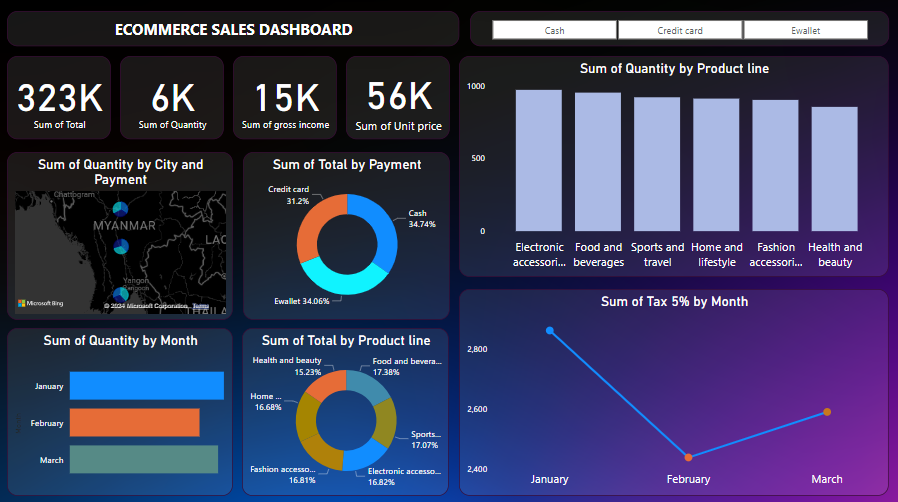

Layout of this report page (visuals, bound fields, positions):
{"tool":"powerbi","page":{"name":"Page 1","canvas":[1280,720],"ordinal":0},"visuals":[{"type":"textbox","box":[12.8,19.8,640.6,49.6],"z":0},{"type":"lineClusteredColumnComboChart","fields":{"Category":["supermarket_sales - Sheet1.Product line"],"Y":["Sum(supermarket_sales - Sheet1.Quantity)"]},"box":[653.4,83.6,609.4,313.2],"z":1000},{"type":"lineChart","fields":{"Category":["supermarket_sales - Sheet1.Date.Variation.Date Hierarchy.Month"],"Y":["Sum(supermarket_sales - Sheet1.Tax 5%)"]},"box":[653.4,413.9,609.4,293.4],"z":2000},{"type":"donutChart","fields":{"Y":["Sum(supermarket_sales - Sheet1.Total)"],"Category":["supermarket_sales - Sheet1.Payment"]},"box":[347.2,219.7,293.4,238.1],"z":3000},{"type":"donutChart","fields":{"Y":["Sum(supermarket_sales - Sheet1.Total)"],"Category":["supermarket_sales - Sheet1.Product line"]},"box":[345.8,469.1,293.4,238.1],"z":4000},{"type":"card","fields":{"Values":["Sum(supermarket_sales - Sheet1.Total)"]},"box":[12.8,83.6,147.4,117.6],"z":5000},{"type":"card","fields":{"Values":["Sum(supermarket_sales - Sheet1.Quantity)"]},"box":[172.9,83.6,147.4,117.6],"z":6000},{"type":"card","fields":{"Values":["Sum(supermarket_sales - Sheet1.gross income)"]},"box":[333.1,83.6,147.4,117.6],"z":7000},{"type":"card","fields":{"Values":["Sum(supermarket_sales - Sheet1.Unit price)"]},"box":[493.2,83.6,147.4,117.6],"z":8000},{"type":"clusteredBarChart","fields":{"Category":["supermarket_sales - Sheet1.Date.Variation.Date Hierarchy.Month"],"Y":["Sum(supermarket_sales - Sheet1.Quantity)"]},"box":[12.8,469.1,320.3,238.1],"z":9000},{"type":"slicer","fields":{"Values":["supermarket_sales - Sheet1.Payment"]},"box":[669,19.8,593.9,49.6],"z":10000},{"type":"map","fields":{"Category":["supermarket_sales - Sheet1.City"],"Series":["supermarket_sales - Sheet1.Payment"],"Size":["Sum(supermarket_sales - Sheet1.Quantity)"]},"box":[12.8,219.7,320.3,238.1],"z":11000}]}

Visuals, with their boxes in screenshot pixels (x1, y1, x2, y2), scaled from the page's 1280x720 canvas onto the 898x502 screenshot:
textbox: <bbox>9, 14, 458, 48</bbox>
lineClusteredColumnComboChart - supermarket_sales - Sheet1.Product line x Sum(supermarket_sales - Sheet1.Quantity): <bbox>458, 58, 886, 277</bbox>
lineChart - supermarket_sales - Sheet1.Date.Variation.Date Hierarchy.Month x Sum(supermarket_sales - Sheet1.Tax 5%): <bbox>458, 289, 886, 493</bbox>
donutChart - Sum(supermarket_sales - Sheet1.Total) x supermarket_sales - Sheet1.Payment: <bbox>244, 153, 449, 319</bbox>
donutChart - Sum(supermarket_sales - Sheet1.Total) x supermarket_sales - Sheet1.Product line: <bbox>243, 327, 448, 493</bbox>
card - Sum(supermarket_sales - Sheet1.Total): <bbox>9, 58, 112, 140</bbox>
card - Sum(supermarket_sales - Sheet1.Quantity): <bbox>121, 58, 225, 140</bbox>
card - Sum(supermarket_sales - Sheet1.gross income): <bbox>234, 58, 337, 140</bbox>
card - Sum(supermarket_sales - Sheet1.Unit price): <bbox>346, 58, 449, 140</bbox>
clusteredBarChart - supermarket_sales - Sheet1.Date.Variation.Date Hierarchy.Month x Sum(supermarket_sales - Sheet1.Quantity): <bbox>9, 327, 234, 493</bbox>
slicer - supermarket_sales - Sheet1.Payment: <bbox>469, 14, 886, 48</bbox>
map - supermarket_sales - Sheet1.City x supermarket_sales - Sheet1.Payment: <bbox>9, 153, 234, 319</bbox>
